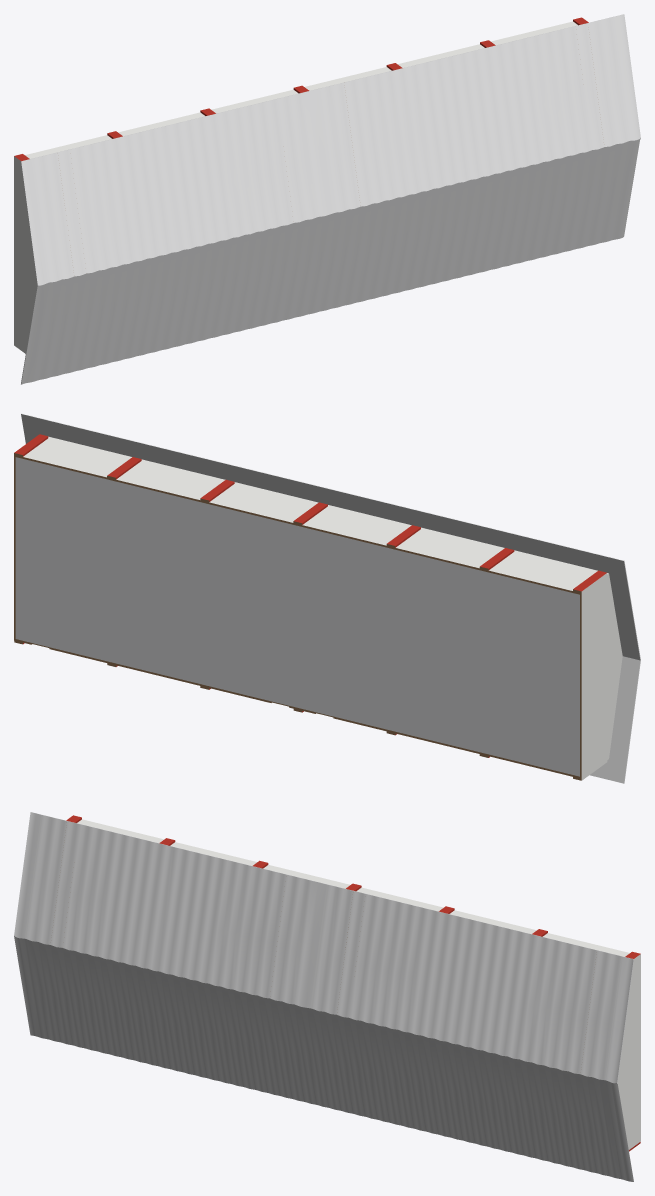
File: CIANv1.fbx
3 renders of one model, top to bottom at view 1: azimuth 30°, elevation 25°; view 2: azimuth 150°, elevation 25°; view 3: azimuth 330°, elevation 25°, orthographic.
Parts seen in each view (by area): view 1: Body1; view 2: Body4, Body1; view 3: Body1.
Boxes of the visible parts, <box> form: Body1: <box>14,14,640,384</box>; Body4: <box>15,457,579,776</box>; Body1: <box>14,413,640,783</box>; Body1: <box>14,812,640,1181</box>.
Size of the model in its own units: 33.99 by 12.02 by 4.05.
